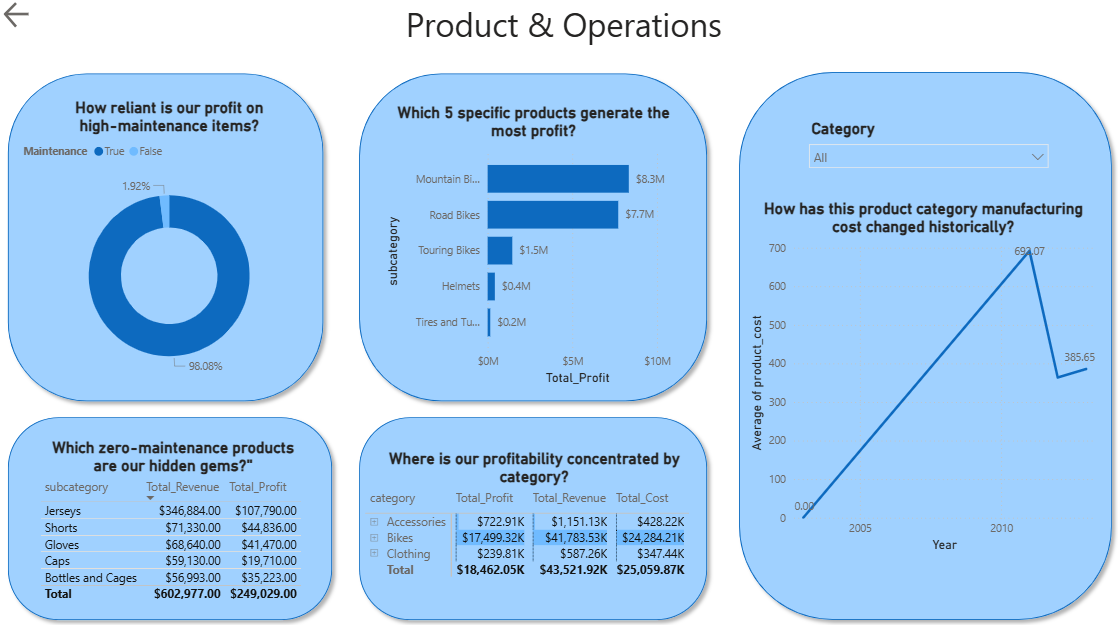

This screenshot's page, from the dashboard's own definition file:
{"tool":"powerbi","page":{"name":"Page 2","canvas":[1280,720],"ordinal":1},"visuals":[{"type":"shape","box":[836,76,444,644],"z":0},{"type":"shape","box":[401.4,470,415.7,250],"z":1000},{"type":"shape","box":[401.4,77.1,415.7,392.9],"z":2000},{"type":"shape","box":[0,77.1,378.6,392.9],"z":3000},{"type":"shape","box":[0,470,388.6,250],"z":4000},{"type":"textbox","box":[80,0,1128.6,77.1],"z":5000},{"type":"donutChart","title":"How reliant is our profit on high-maintenance items?","fields":{"Category":["dim_products.maintenance_flag"],"Y":["fact_sales.Total_Profit"]},"box":[21.4,114.3,344.3,337.1],"z":6000},{"type":"pivotTable","title":"Where is our profitability concentrated by category?","fields":{"Rows":["dim_products.category","dim_products.subcategory","fact_sales.order_date.Variation.Date Hierarchy.Year","fact_sales.due_date.Variation.Date Hierarchy.Year"],"Values":["fact_sales.Total_Profit","fact_sales.Total_Revenue","fact_sales.Total_Cost"]},"box":[412.9,515.7,395.7,204.3],"z":7000},{"type":"lineChart","title":"How has this product category manufacturing cost changed historically?","fields":{"Y":["Avg(dim_products.product_cost)"],"Category":["dim_products.start_date.Variation.Date Hierarchy.Year"]},"box":[852,230,408,408],"z":8000},{"type":"clusteredBarChart","title":"Which 5 specific products generate the most profit?","fields":{"Category":["dim_products.subcategory"],"Y":["fact_sales.Total_Profit"]},"box":[435.7,120,348.6,327.1],"z":9000},{"type":"tableEx","title":"Which zero-maintenance products are our hidden gems?\"","fields":{"Values":["dim_products.subcategory","fact_sales.Total_Revenue","fact_sales.Total_Profit"]},"box":[40,502.9,315.7,217.1],"z":10000},{"type":"slicer","fields":{"Values":["dim_products.category"]},"box":[914,134,294,70],"z":12000},{"type":"actionButton","box":[0,0,60,38.6],"z":12001}]}

Visuals, with their boxes in screenshot pixels (x1, y1, x2, y2), scaled from the page's 1280x720 canvas onto the 1118x625 screenshot:
shape: [x1=730, y1=66, x2=1117, y2=624]
shape: [x1=351, y1=408, x2=714, y2=624]
shape: [x1=351, y1=67, x2=714, y2=408]
shape: [x1=0, y1=67, x2=331, y2=408]
shape: [x1=0, y1=408, x2=339, y2=624]
textbox: [x1=70, y1=0, x2=1056, y2=67]
"How reliant is our profit on high-maintenance items?" donutChart: [x1=19, y1=99, x2=319, y2=392]
"Where is our profitability concentrated by category?" pivotTable: [x1=361, y1=448, x2=706, y2=624]
"How has this product category manufacturing cost changed historically?" lineChart: [x1=744, y1=200, x2=1101, y2=554]
"Which 5 specific products generate the most profit?" clusteredBarChart: [x1=381, y1=104, x2=685, y2=388]
"Which zero-maintenance products are our hidden gems?"" tableEx: [x1=35, y1=437, x2=311, y2=624]
slicer - dim_products.category: [x1=798, y1=116, x2=1055, y2=177]
actionButton: [x1=0, y1=0, x2=52, y2=34]
